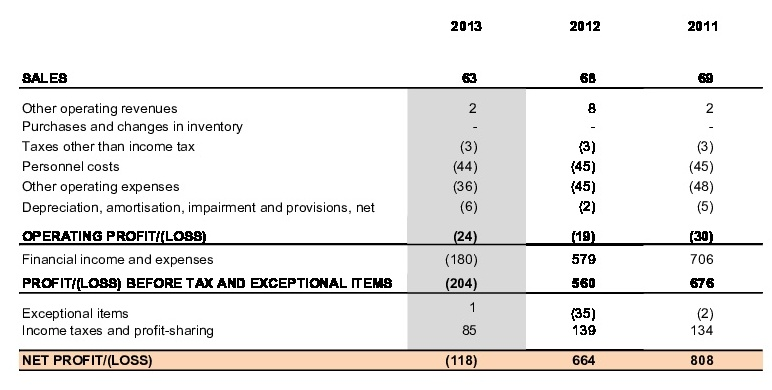table: (0, 0, 772, 390)
